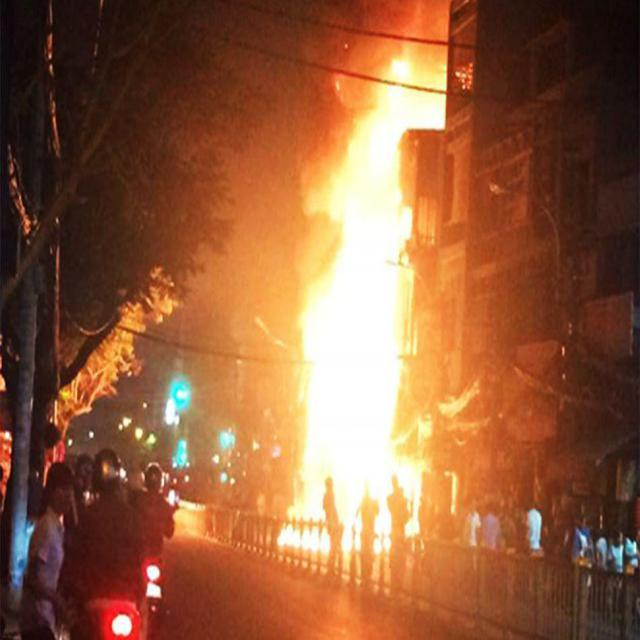Fire: (280, 94, 460, 543)
